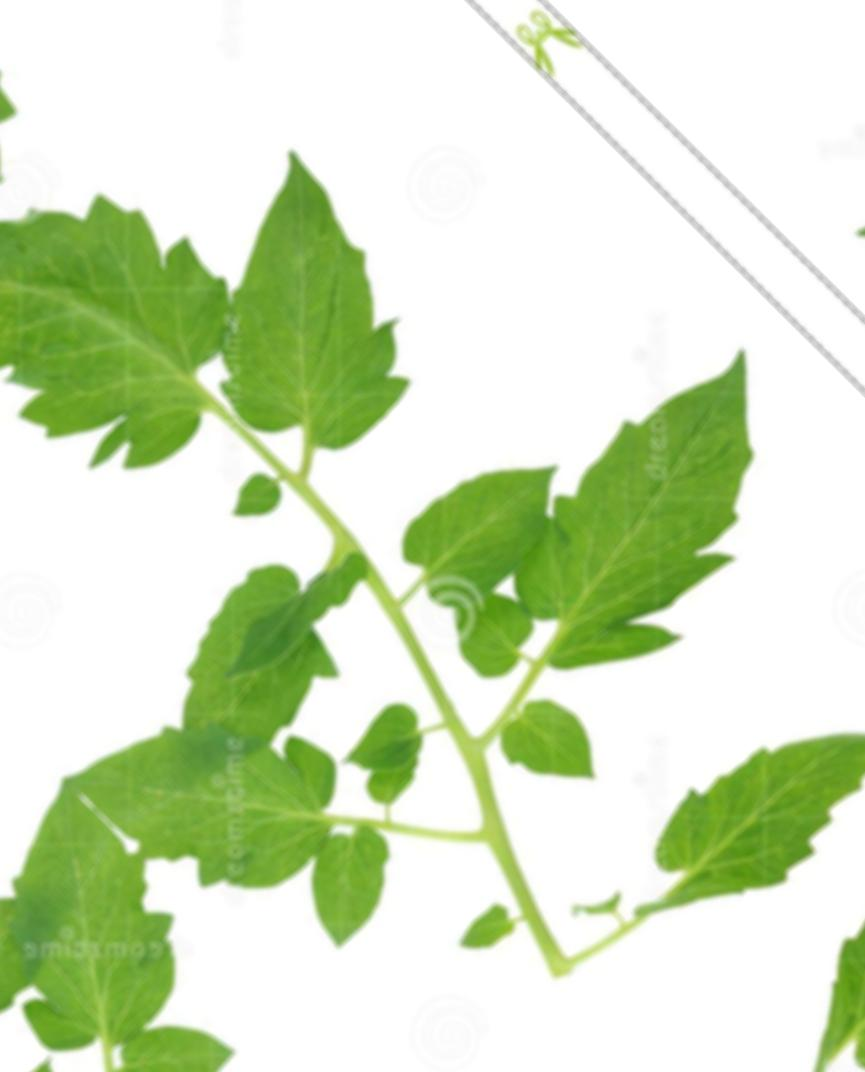Tomato leaf: (107, 115, 533, 541), (468, 315, 865, 722), (0, 136, 294, 585), (41, 613, 384, 956), (590, 623, 865, 984), (109, 506, 394, 791), (357, 388, 631, 664)
